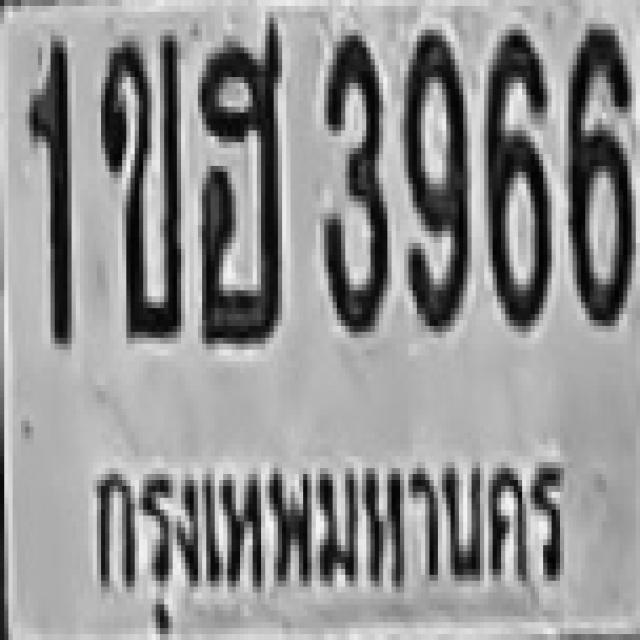1: (25, 42, 72, 308)
11KhorKhai: (97, 30, 177, 332)
3: (320, 30, 383, 326)
53HorNokHook: (196, 30, 280, 338)
6: (564, 18, 632, 320), (480, 24, 547, 326)
9: (400, 24, 467, 326)
Bangkok: (81, 444, 569, 640)
